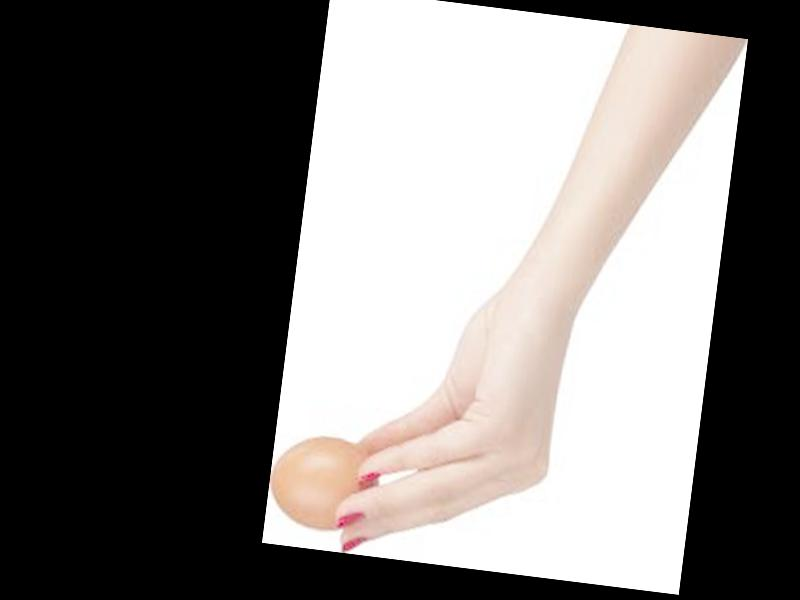Eggs: (266, 430, 380, 537)
